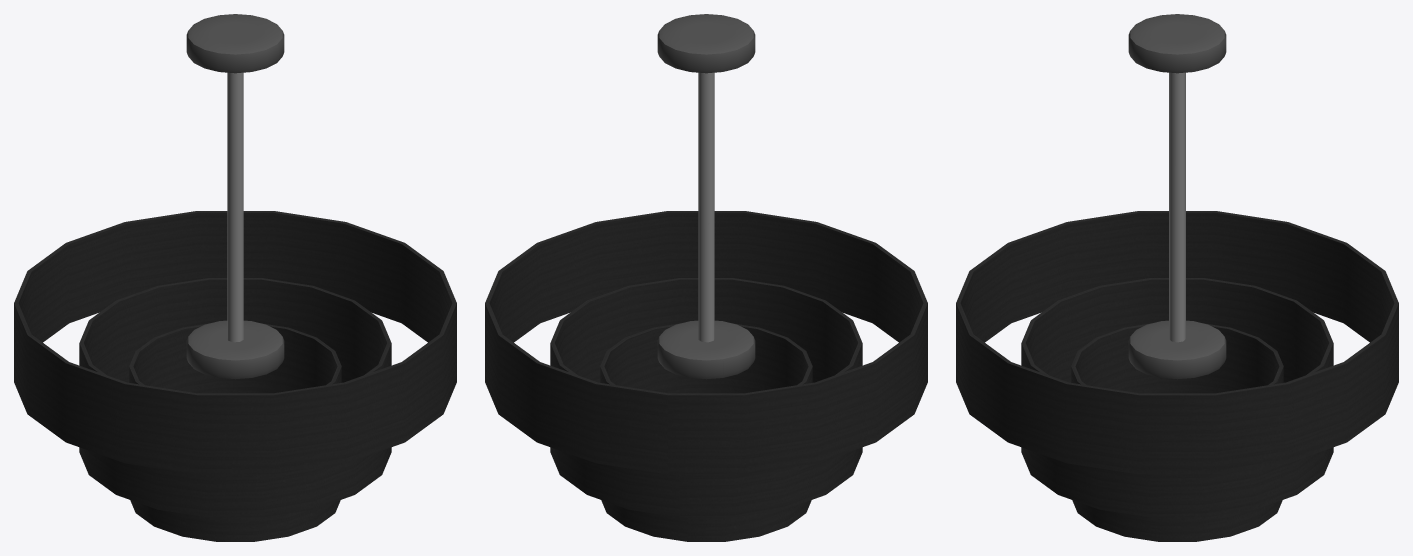
Rendered from Lampara_Techo.fbx.
3 renders of one model, left to right at view 1: azimuth 30°, elevation 25°; view 2: azimuth 150°, elevation 25°; view 3: azimuth 270°, elevation 25°, orthographic.
Visible parts, largest first — view 1: Cylinder002; view 2: Cylinder002; view 3: Cylinder002.
Boxes of the visible parts, <box> form: Cylinder002: <box>14,14,456,541</box>; Cylinder002: <box>485,14,927,541</box>; Cylinder002: <box>956,14,1398,541</box>.
Bounding box in the file's own units: 95.27 × 112 × 96.74.
Materials: 1 (1 with a texture image).
